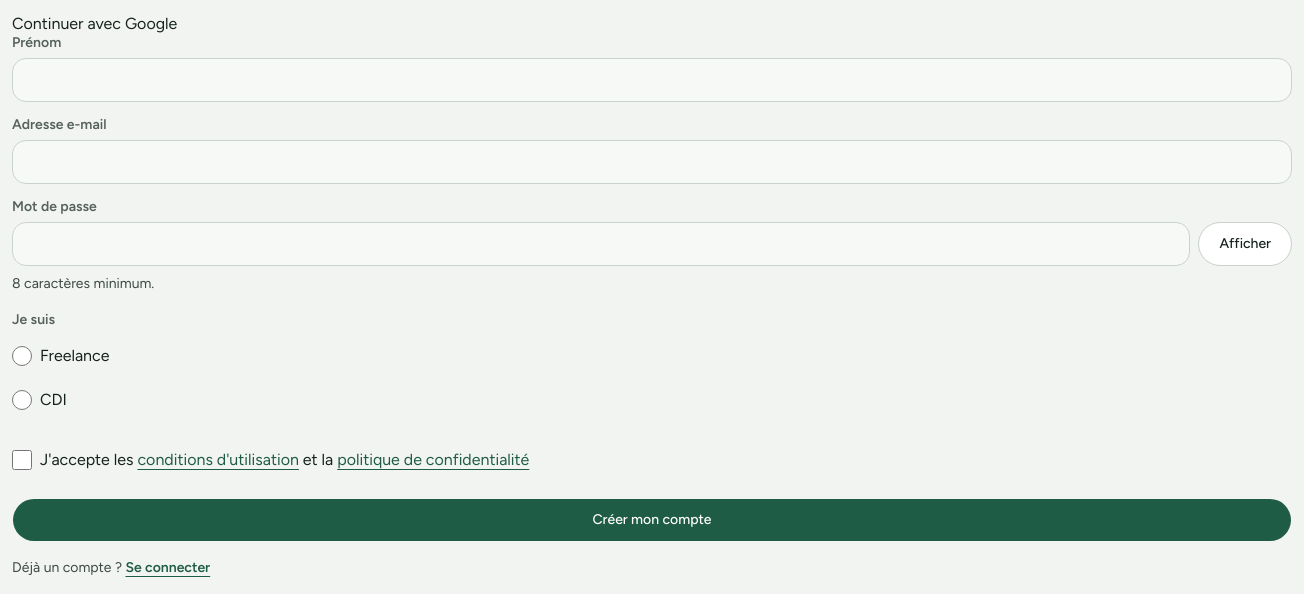
Test: SignUpForm › replaces the form with the inbox screen showing the address
This screenshot has width=1304, height=594.
In the field labelled "Prénom": (652, 80) x1=12 y1=58 x2=1292 y2=102, type "Camille"
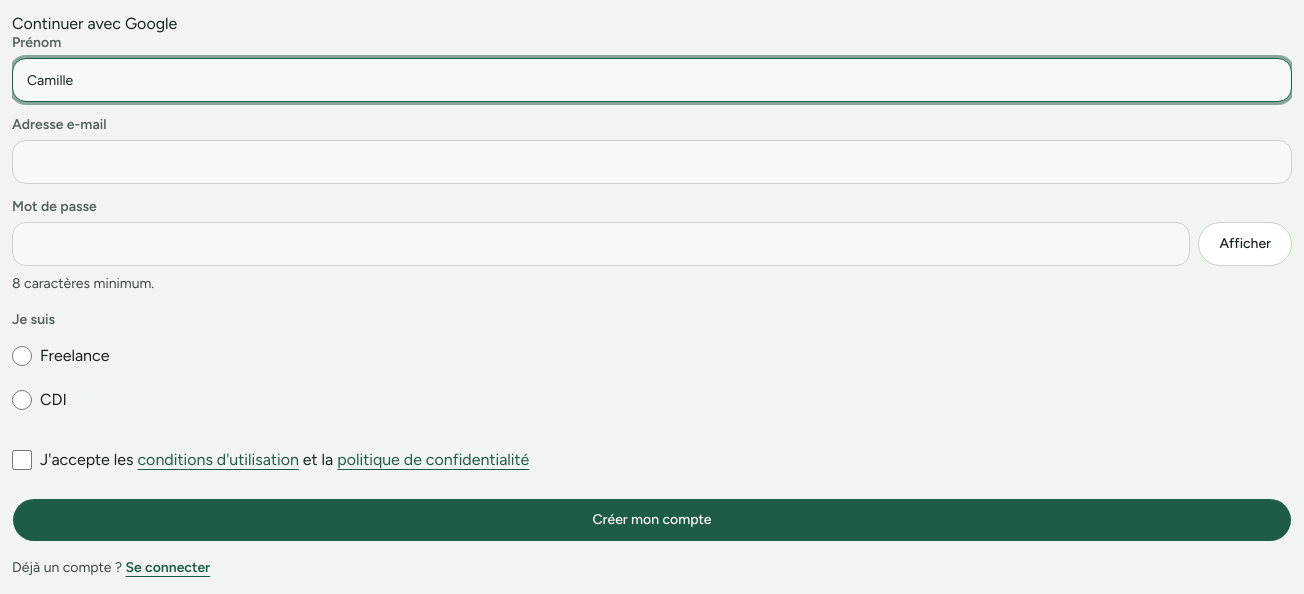
In the field labelled "Adresse e-mail": (652, 162) x1=12 y1=140 x2=1292 y2=184, type "camille@example.com"
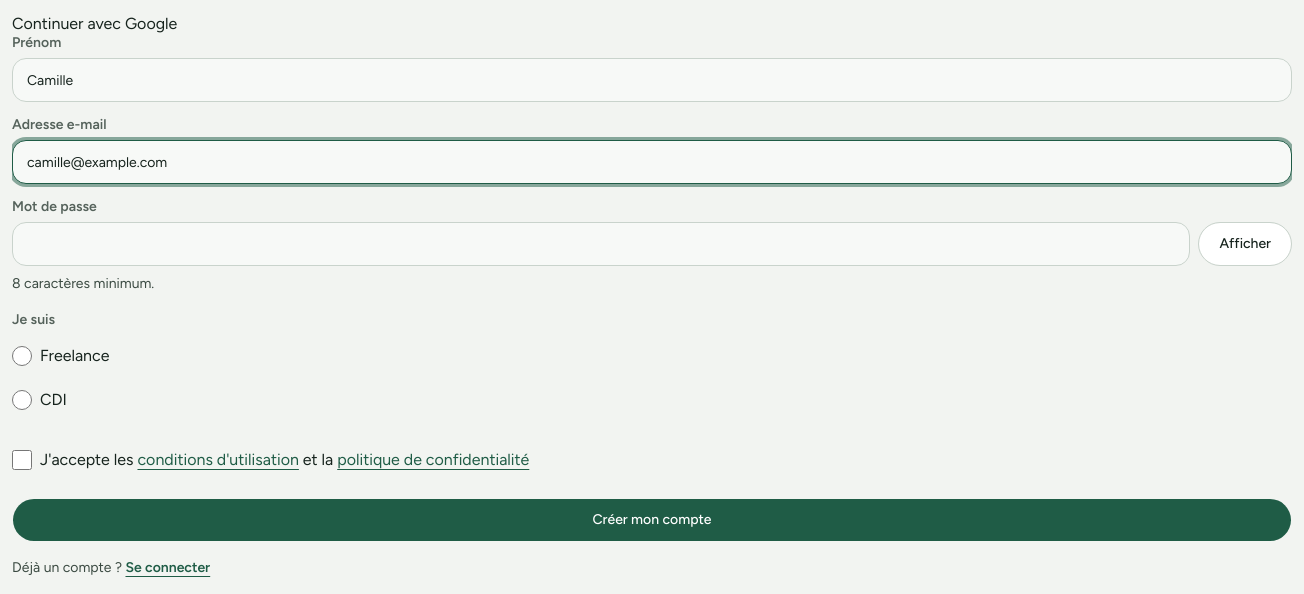
In the password field labelled "Mot de passe": (601, 244) x1=12 y1=222 x2=1190 y2=266, type "long-enough-password"
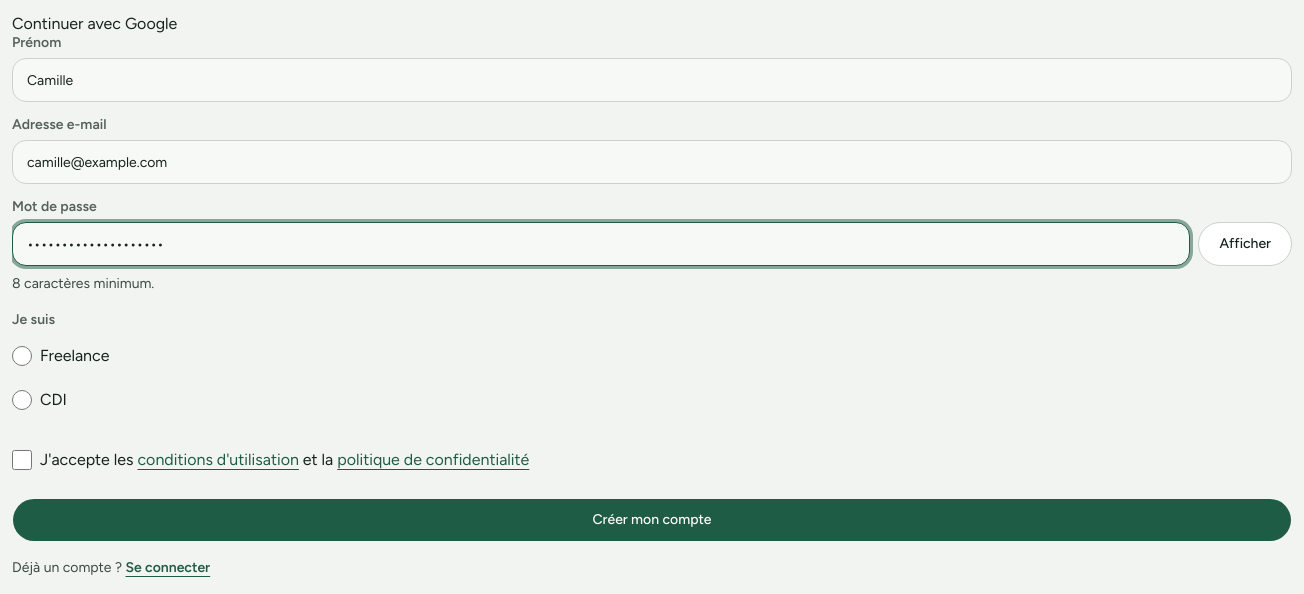
Click the radio button labelled "Freelance": click(22, 356) x1=12 y1=346 x2=32 y2=366
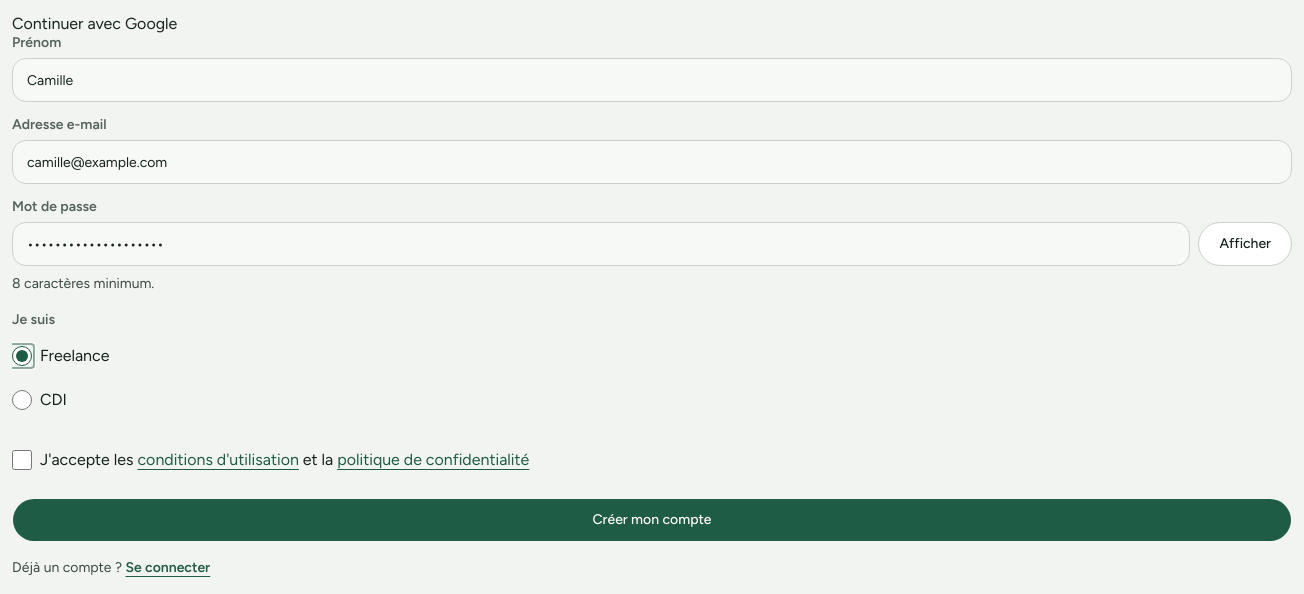
Click the checkbox: click(22, 460) x1=12 y1=450 x2=32 y2=470
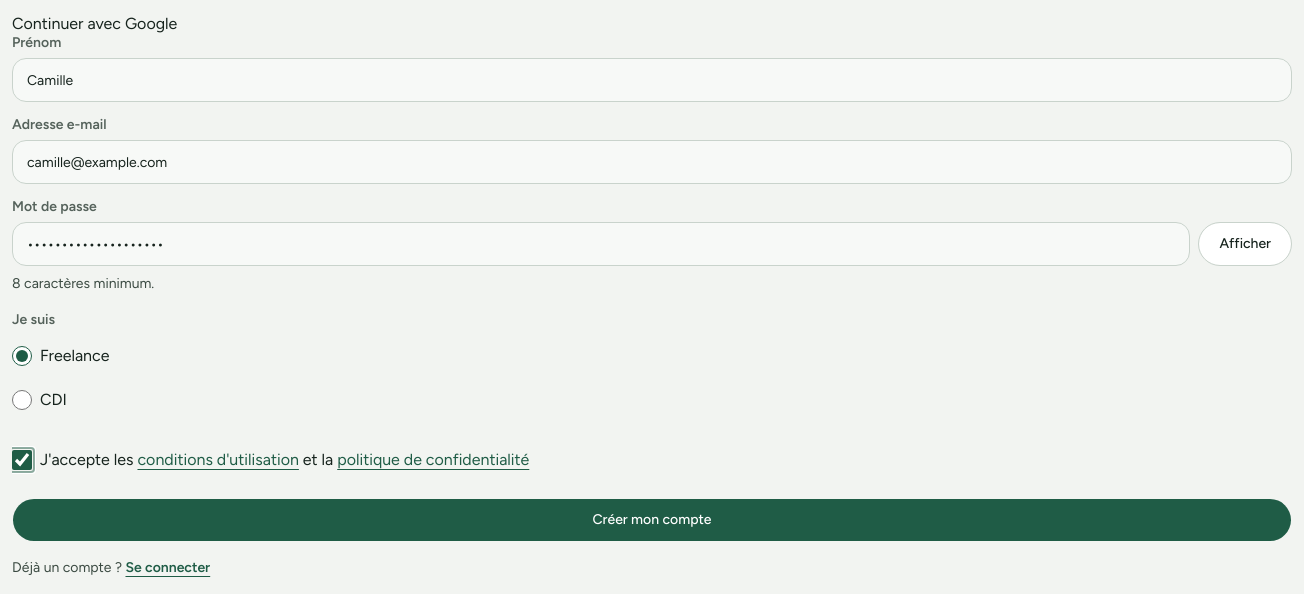
Click the button "Créer mon compte": click(652, 520) x1=12 y1=498 x2=1292 y2=542
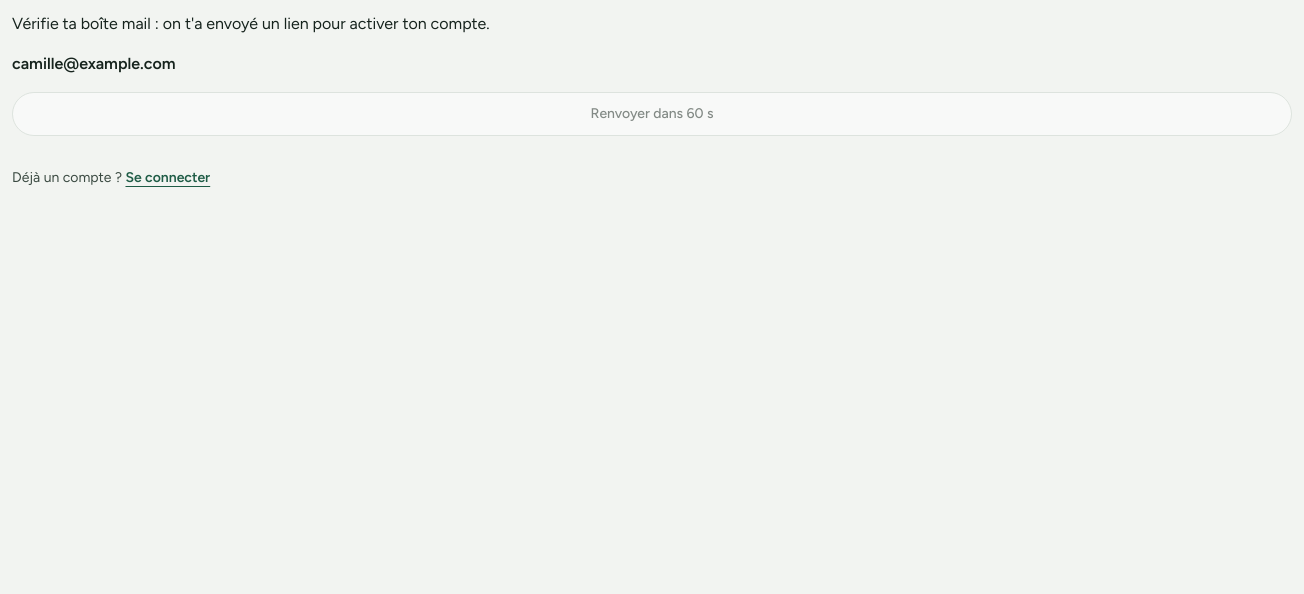
Check: the text "Vérifie ta boîte mail : on t'a envoyé un lien pour activer ton compte." is shown, box x1=12 y1=14 x2=490 y2=33
Check: the text "camille@example.com" is shown, box x1=12 y1=54 x2=176 y2=73
Check: the label labelled "Prénom" is gone
